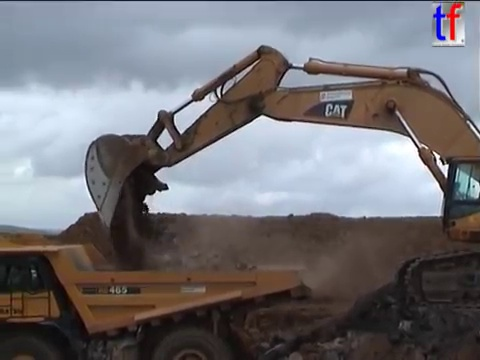excavator: (81, 41, 479, 313)
truck: (1, 230, 313, 360)
